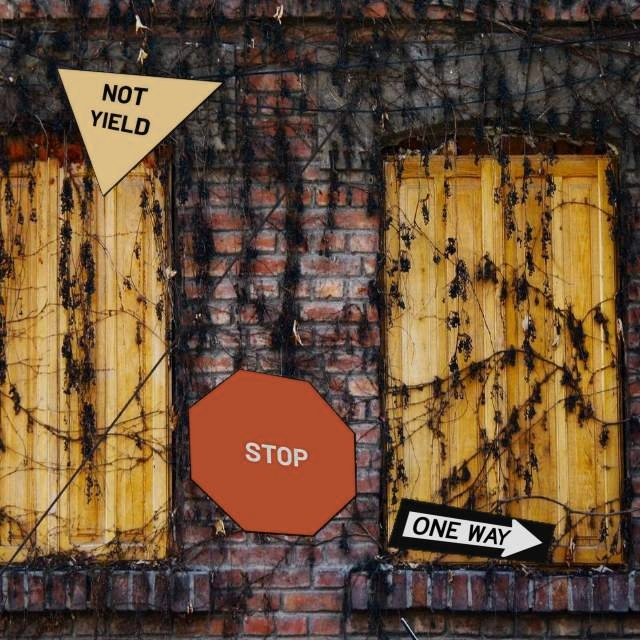NOT_YIELD: (56, 67, 226, 197)
ONE_WAY_ right: (386, 497, 556, 564)
STOP: (187, 368, 357, 537)
